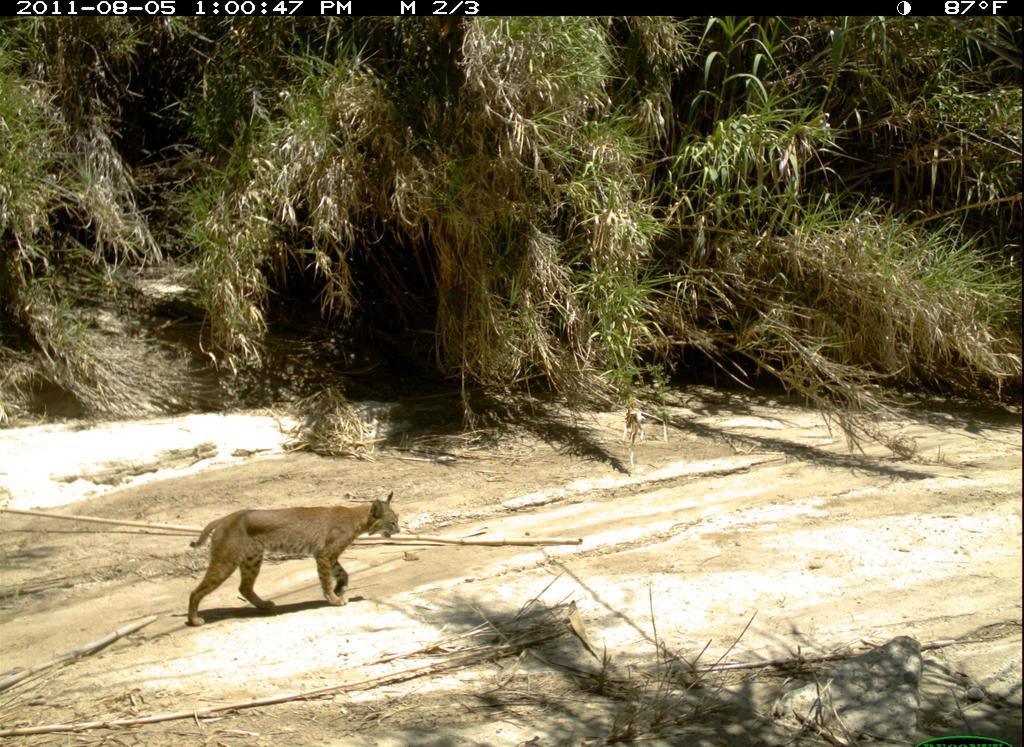bobcat: (175, 489, 411, 635)
